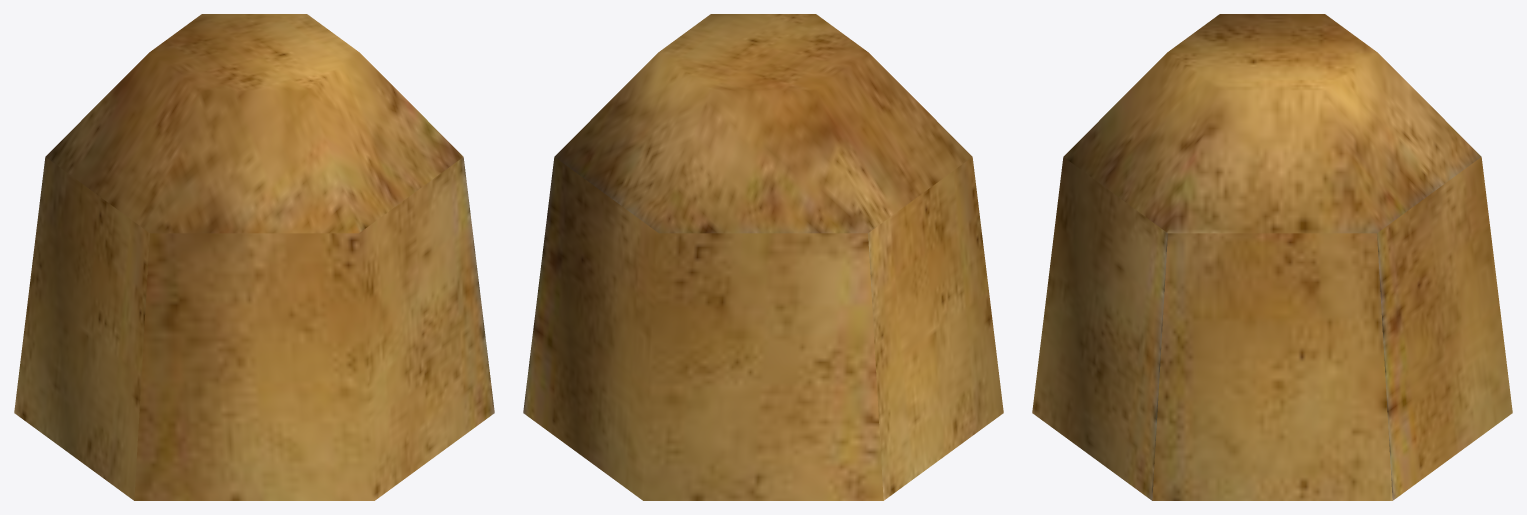
The model's file is Potato_02.glb.
3 views of the same model, side by side, from view 1: azimuth 30°, elevation 25°; view 2: azimuth 150°, elevation 25°; view 3: azimuth 270°, elevation 25° (orthographic).
Visible parts, largest first — view 1: Potato_02; view 2: Potato_02; view 3: Potato_02.
Boxes of the visible parts, box(x1,y1,x2,y2) form: Potato_02: box(14, 14, 494, 500); Potato_02: box(523, 14, 1003, 500); Potato_02: box(1032, 14, 1512, 500).
Size of the model in its own units: 0.1175 by 0.1123 by 0.1356.
1 material, 1 textured.
